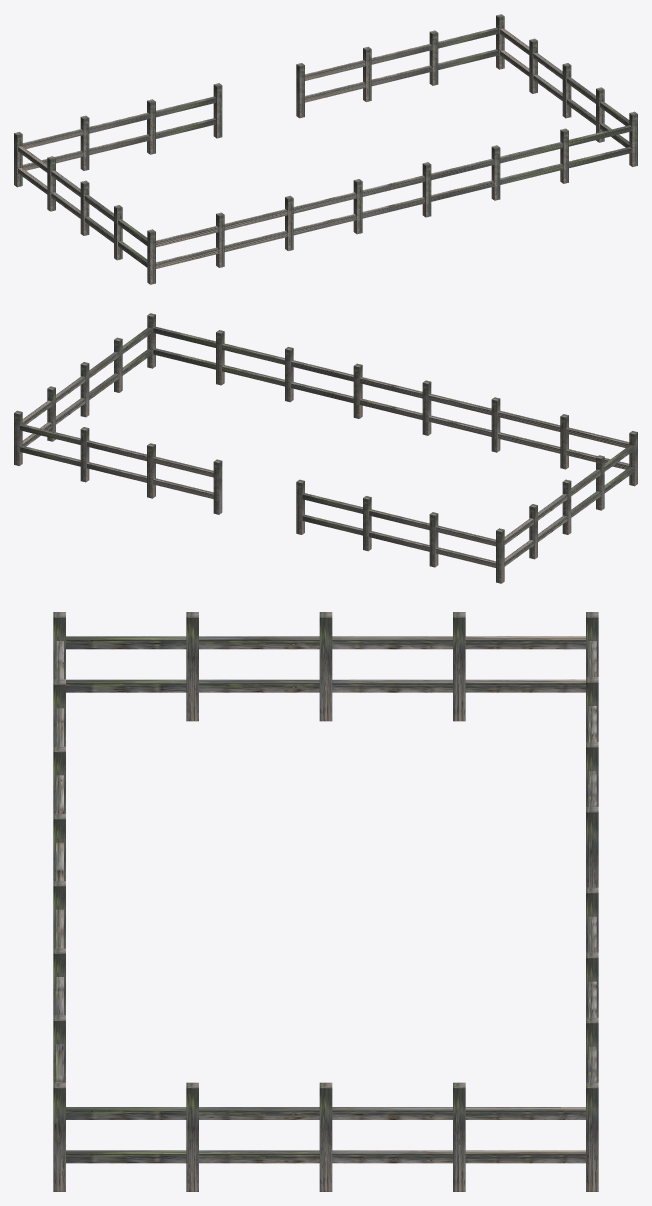
File: fence.glb
The picture shows the model from 3 angles, top to bottom: view 1: azimuth 30°, elevation 25°; view 2: azimuth 150°, elevation 25°; view 3: azimuth 270°, elevation 25°; orthographic projection. The views are drawn at different scales.
Size of the model in its own units: 14.16 by 1.44 by 6.86.
1 material, 1 textured.
